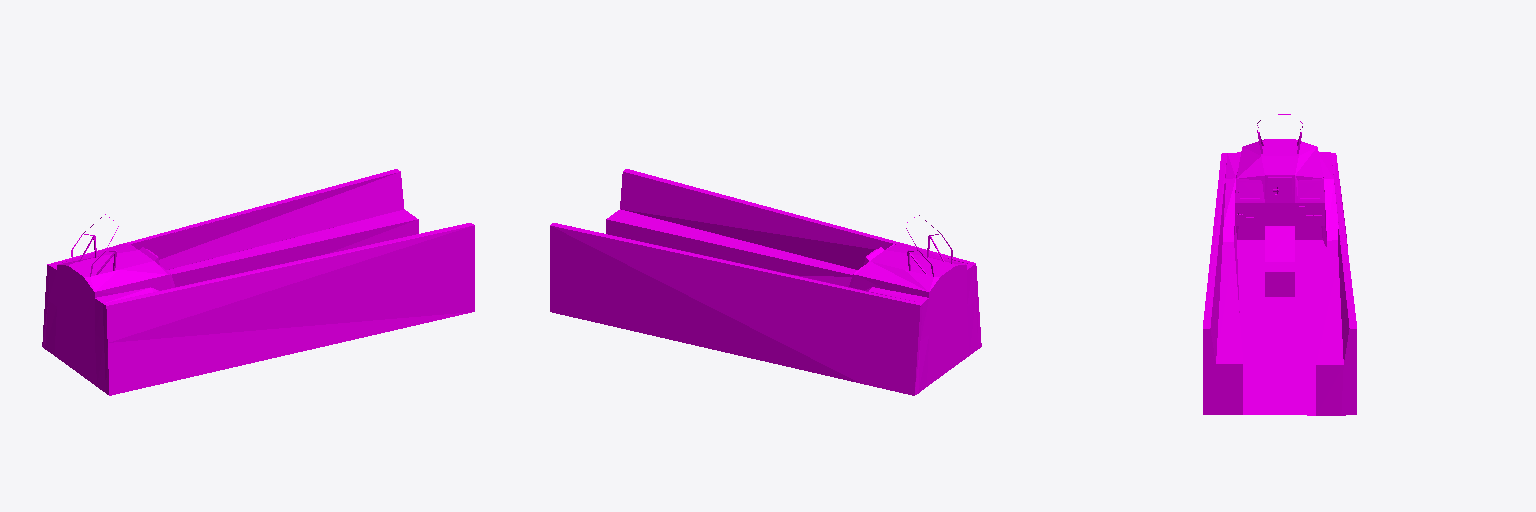
3 views of the same model, side by side, from view 1: azimuth 30°, elevation 25°; view 2: azimuth 150°, elevation 25°; view 3: azimuth 270°, elevation 25° (orthographic).
Visible parts, largest first — view 1: Plane_Plane.001; view 2: Plane_Plane.001; view 3: Plane_Plane.001.
Part boxes in pixels (x1,y1,x2,y2): Plane_Plane.001: (42, 169, 474, 395); Plane_Plane.001: (550, 169, 981, 395); Plane_Plane.001: (1203, 114, 1356, 415).
Size of the model in its own units: 2.01 by 0.7589 by 0.7451.
1 materials, 1 textured.